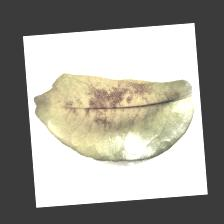black spot: (55, 72, 185, 128)
